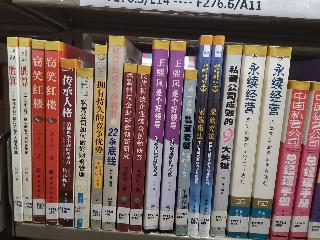book-spine: (129, 38, 184, 236), (222, 43, 269, 240), (246, 45, 292, 240), (267, 78, 311, 240), (210, 44, 244, 237), (196, 35, 225, 239), (186, 35, 214, 237), (157, 41, 186, 235), (287, 80, 320, 240), (100, 36, 124, 230), (5, 36, 28, 223), (114, 61, 139, 233), (55, 57, 79, 229), (72, 68, 95, 229), (175, 69, 197, 237), (43, 41, 60, 226), (90, 45, 107, 229), (31, 37, 46, 226), (18, 37, 31, 222)
